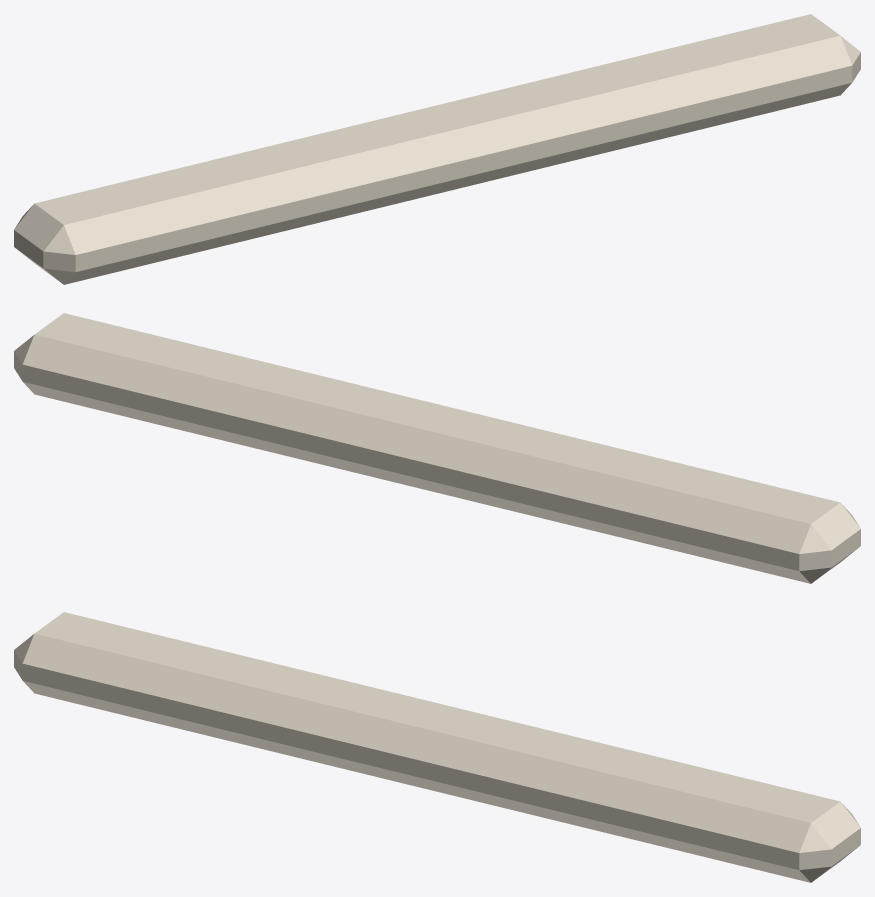
Rendered from plaza_edge_straight_4m_lod2_v2.glb.
The picture shows the model from 3 angles, top to bottom: view 1: azimuth 30°, elevation 25°; view 2: azimuth 150°, elevation 25°; view 3: azimuth 330°, elevation 25°; orthographic projection.
Visible parts, largest first — view 1: LOD2_PLAZA_EDGE_STRAIGHT_4M_Curb; view 2: LOD2_PLAZA_EDGE_STRAIGHT_4M_Curb; view 3: LOD2_PLAZA_EDGE_STRAIGHT_4M_Curb.
Boxes of the visible parts, x1,y1,x2,y2 form: LOD2_PLAZA_EDGE_STRAIGHT_4M_Curb: (14,14,860,284); LOD2_PLAZA_EDGE_STRAIGHT_4M_Curb: (14,313,860,583); LOD2_PLAZA_EDGE_STRAIGHT_4M_Curb: (14,612,860,882).
Size of what is drawn, in the model's own units: 4 by 0.28 by 0.45.
